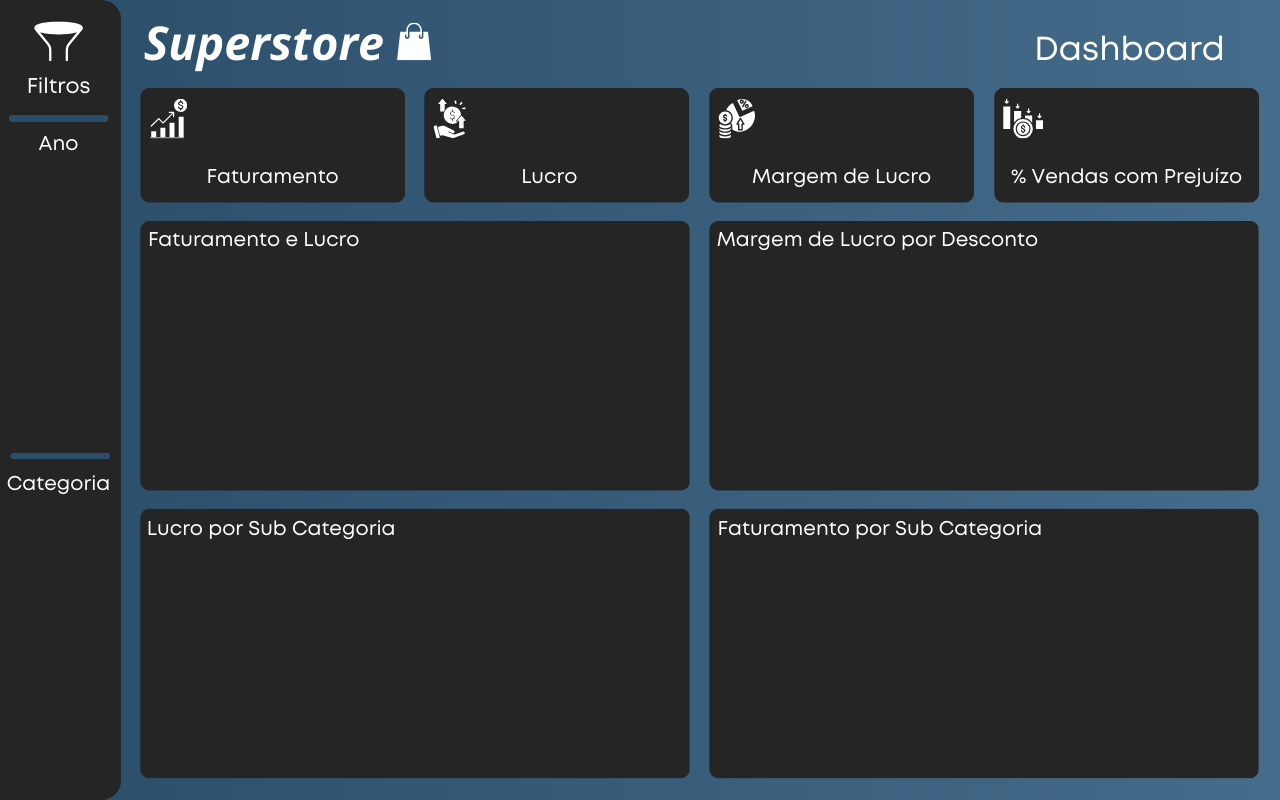

The page's visual inventory and layout, read from the dashboard file:
{"tool":"powerbi","page":{"name":"Performance de Vendas e Rentabilidade","canvas":[1280,720],"ordinal":0},"visuals":[{"type":"cardVisual","fields":{"Data":["Medidas.Total Vendas"]},"box":[144,80.8,259.7,72.9],"z":0},{"type":"cardVisual","fields":{"Data":["Medidas.Margem de Lucro %"]},"box":[709.1,81.7,264.6,71],"z":1000},{"type":"cardVisual","fields":{"Data":["Medidas.% Vendas com Prejuízo"]},"box":[995,80.8,262.6,72.9],"z":2000},{"type":"cardVisual","fields":{"Data":["Medidas.Lucro Total"]},"box":[425,80.8,265.5,72.9],"z":3000},{"type":"clusteredColumnChart","fields":{"Category":["Dim_Calendar.Dim_Calendar.Variation.Hierarquia de datas.Ano","Dim_Calendar.Dim_Calendar.Variation.Hierarquia de datas.Mês"],"Y":["Medidas.Receita Total","Medidas.Lucro Total"]},"box":[137.1,215.9,554.4,225.7],"z":4000},{"type":"lineChart","fields":{"Category":["Fact_Sales.Discount"],"Y":["Medidas.% Margem de Lucro"]},"box":[709.1,215.9,548.6,225.7],"z":5000},{"type":"slicer","fields":{"Values":["Dim_Calendar.Dim_Calendar.Variation.Hierarquia de datas.Ano"]},"box":[0,148.8,120.6,244.1],"z":6000},{"type":"columnChart","fields":{"Category":["Dim_Products.Sub_Category"],"Y":["Medidas.Lucro Total"]},"box":[137.1,477.6,562.2,221.8],"z":7000},{"type":"clusteredColumnChart","fields":{"Category":["Dim_Products.Sub_Category"],"Y":["Medidas.Receita Total"]},"box":[709.1,458.1,556.4,241.2],"z":8000},{"type":"actionButton","box":[0,0,100,40],"z":10000},{"type":"slicer","fields":{"Values":["Dim_Products.Category"]},"box":[0,458.1,120.6,199.4],"z":12000}]}

Visuals, with their boxes on the page's 1280x720 design canvas (x1, y1, x2, y2). These are canvas units, not pixel positions in the 1280x800 screenshot, which may show the page scaled, cropped or inside an application window:
cardVisual - Medidas.Total Vendas: Rect(144, 81, 404, 154)
cardVisual - Medidas.Margem de Lucro %: Rect(709, 82, 974, 153)
cardVisual - Medidas.% Vendas com Prejuízo: Rect(995, 81, 1258, 154)
cardVisual - Medidas.Lucro Total: Rect(425, 81, 690, 154)
clusteredColumnChart - Dim_Calendar.Dim_Calendar.Variation.Hierarquia de datas.Ano x Dim_Calendar.Dim_Calendar.Variation.Hierarquia de datas.Mês: Rect(137, 216, 692, 442)
lineChart - Fact_Sales.Discount x Medidas.% Margem de Lucro: Rect(709, 216, 1258, 442)
slicer - Dim_Calendar.Dim_Calendar.Variation.Hierarquia de datas.Ano: Rect(0, 149, 121, 393)
columnChart - Dim_Products.Sub_Category x Medidas.Lucro Total: Rect(137, 478, 699, 699)
clusteredColumnChart - Dim_Products.Sub_Category x Medidas.Receita Total: Rect(709, 458, 1266, 699)
actionButton: Rect(0, 0, 100, 40)
slicer - Dim_Products.Category: Rect(0, 458, 121, 658)
